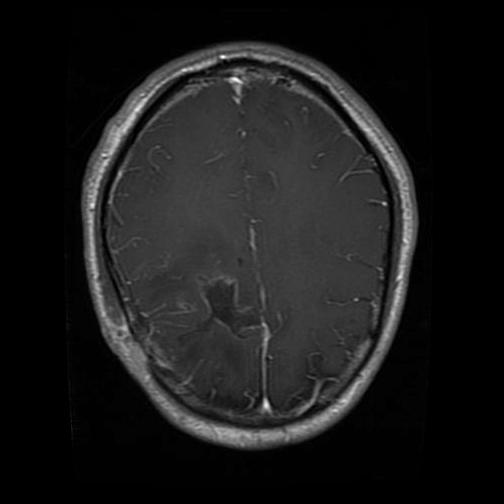Tumour-Glioma: (182, 271, 247, 347)
